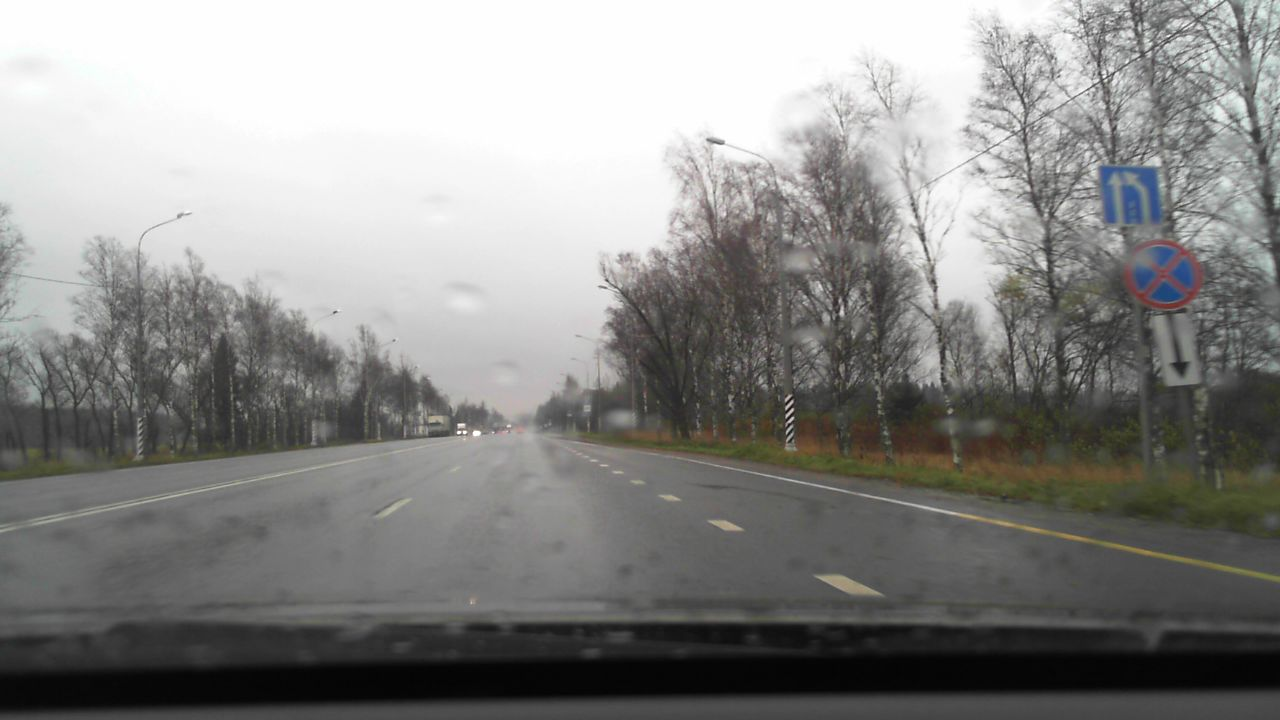No Parking: (1124, 239, 1202, 311)
